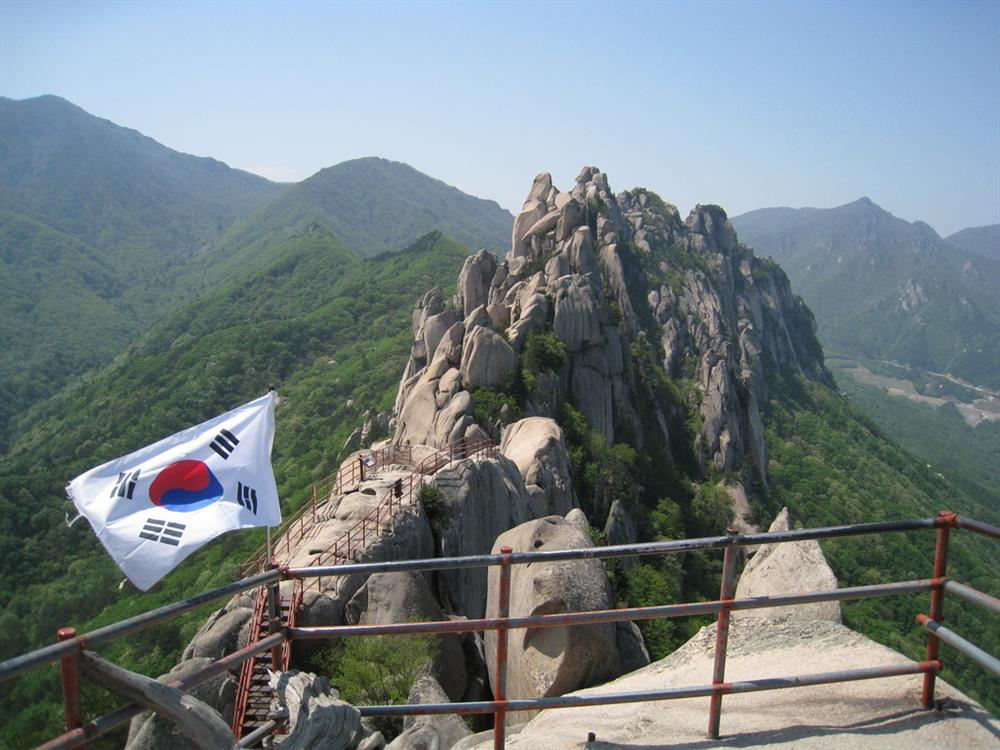Korean_flag: (69, 391, 280, 587)
